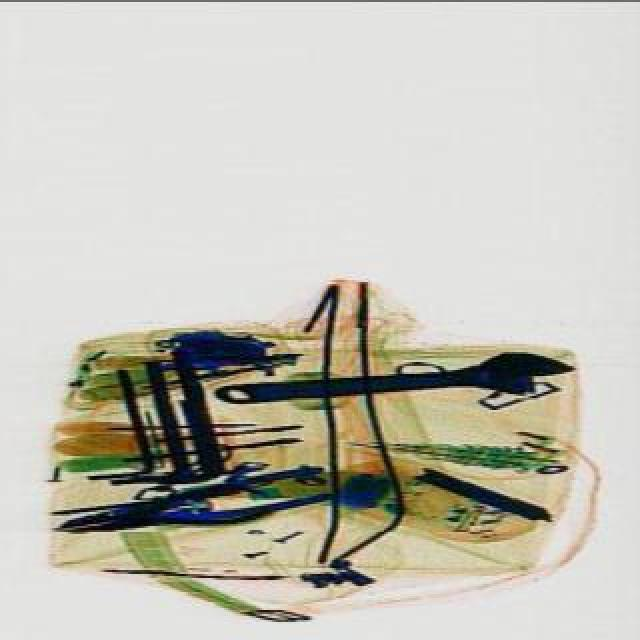scissors: (218, 350, 582, 418)
wrench: (54, 476, 276, 558)
